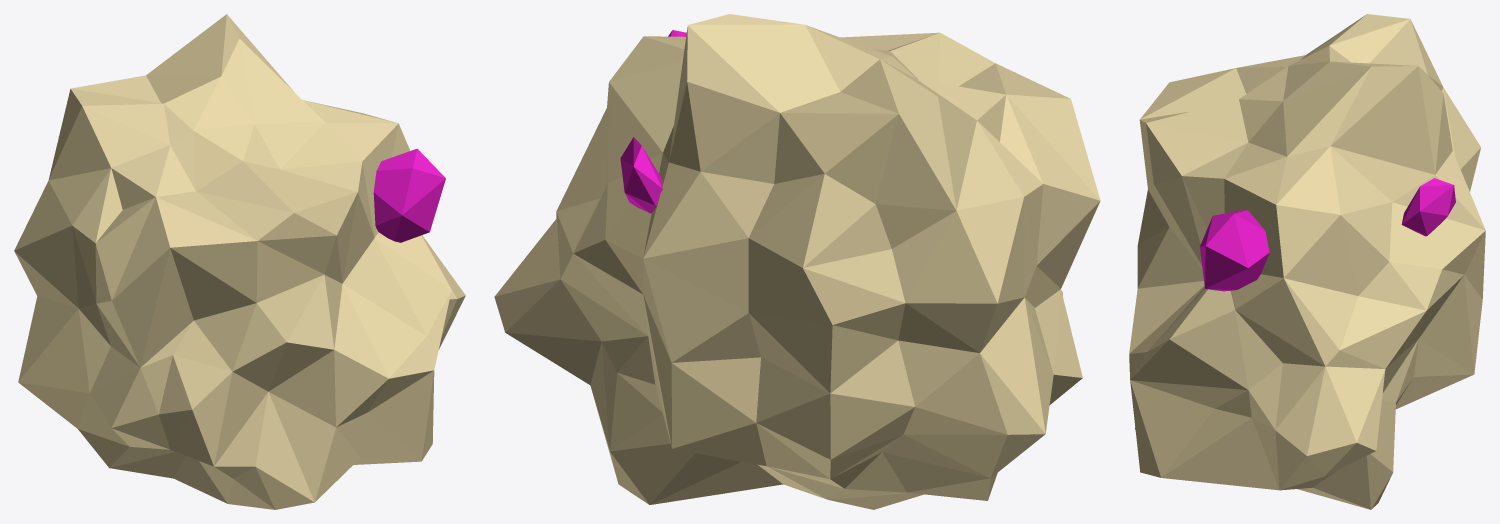
The model's file is CrystalOre (63).fbx.
The picture shows the model from 3 angles, left to right: view 1: azimuth 30°, elevation 25°; view 2: azimuth 150°, elevation 25°; view 3: azimuth 270°, elevation 25°; orthographic projection. The views are drawn at different scales.
Parts seen in each view (by area): view 1: Asteroid283; view 2: Asteroid283; view 3: Asteroid283.
Boxes of the visible parts, left/top/right/bottom form: Asteroid283: left=14, top=14, right=465, bottom=509; Asteroid283: left=494, top=14, right=1100, bottom=509; Asteroid283: left=1129, top=14, right=1485, bottom=509.
Bounding box in the file's own units: 395 × 362 × 275.
